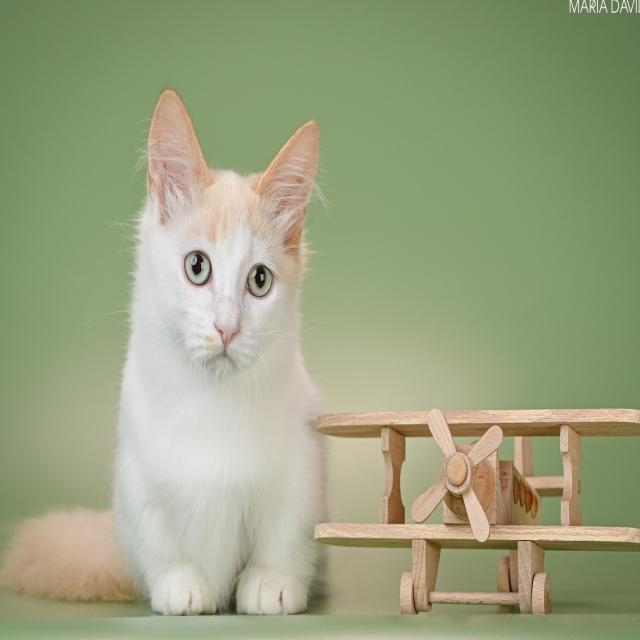Munchkin: (0, 82, 333, 624)
